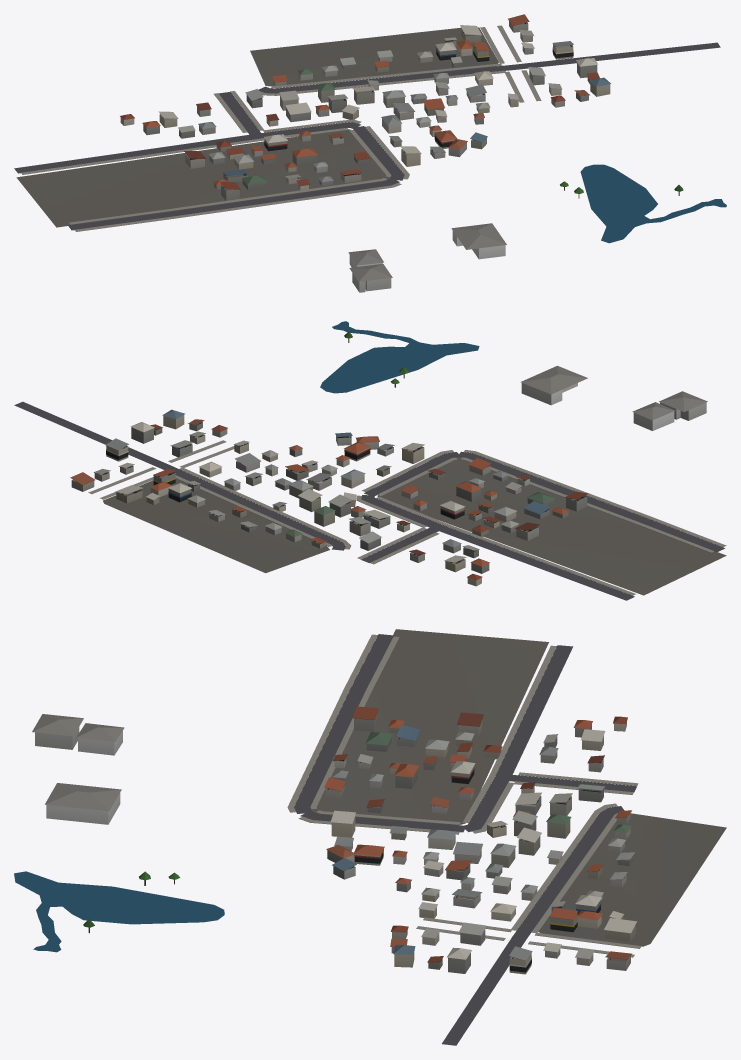
3 views of the same model, one above another, from view 1: azimuth 30°, elevation 25°; view 2: azimuth 150°, elevation 25°; view 3: azimuth 270°, elevation 25° (orthographic). The views are drawn at different scales.
Parts seen in each view (by area): view 1: Landuse__r-1c0, Buildings_Infill__r-1c0-col, Roads_Minor__r-1c0, Sidewalks__r-1c0-col, Water__r-1c0, Buildings__r-1c0-col; view 2: Landuse__r-1c0, Buildings_Infill__r-1c0-col, Roads_Minor__r-1c0, Sidewalks__r-1c0-col, Water__r-1c0, Buildings__r-1c0-col; view 3: Landuse__r-1c0, Buildings_Infill__r-1c0-col, Roads_Minor__r-1c0, Sidewalks__r-1c0-col, Water__r-1c0, Buildings__r-1c0-col.
Boxes of the visible parts, bbox=[...] form: Landuse__r-1c0: bbox=[16, 27, 498, 227]; Buildings_Infill__r-1c0-col: bbox=[120, 14, 610, 200]; Roads_Minor__r-1c0: bbox=[14, 42, 720, 230]; Sidewalks__r-1c0-col: bbox=[21, 25, 541, 231]; Water__r-1c0: bbox=[580, 164, 726, 243]; Buildings__r-1c0-col: bbox=[348, 223, 506, 292]; Landuse__r-1c0: bbox=[103, 457, 726, 595]; Buildings_Infill__r-1c0-col: bbox=[70, 409, 588, 586]; Roads_Minor__r-1c0: bbox=[14, 401, 724, 600]; Sidewalks__r-1c0-col: bbox=[88, 440, 726, 595]; Water__r-1c0: bbox=[320, 321, 479, 393]; Buildings__r-1c0-col: bbox=[520, 365, 707, 430]; Landuse__r-1c0: bbox=[311, 629, 726, 946]; Buildings_Infill__r-1c0-col: bbox=[324, 706, 637, 974]; Roads_Minor__r-1c0: bbox=[294, 634, 636, 1045]; Sidewalks__r-1c0-col: bbox=[287, 634, 641, 957]; Water__r-1c0: bbox=[14, 871, 224, 952]; Buildings__r-1c0-col: bbox=[32, 714, 124, 824].
Size of the model in its own units: 416 by 9.26 by 301.
